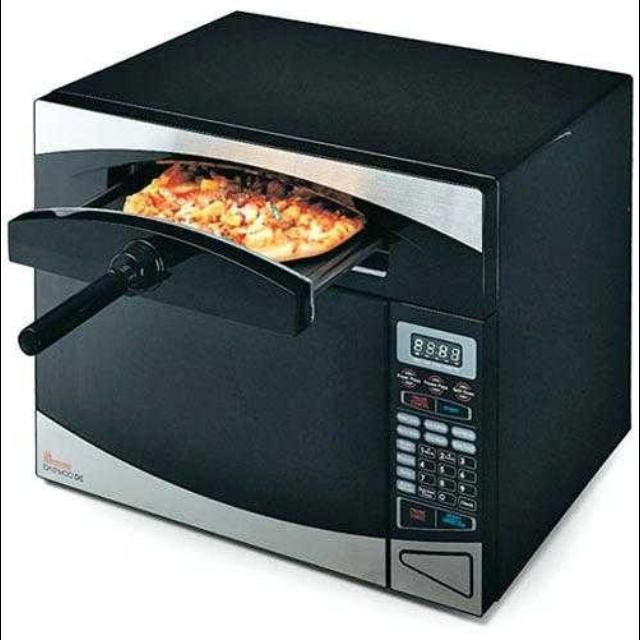Oven: (28, 90, 492, 622)
